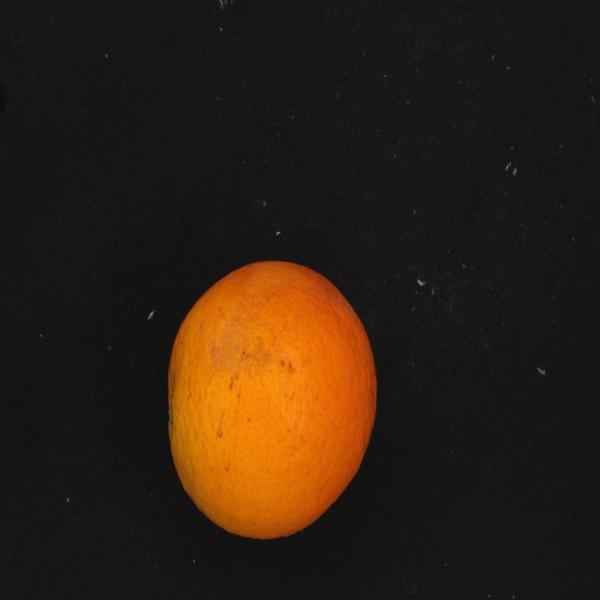Sana: (156, 243, 385, 550)
